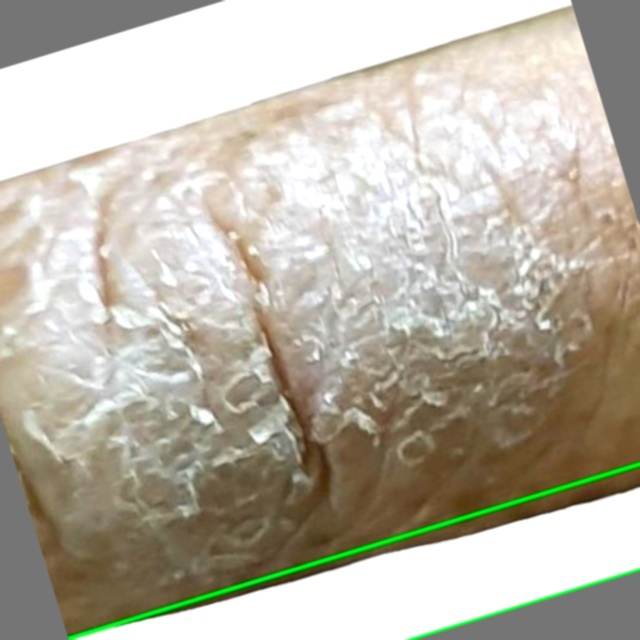Eczema: (68, 464, 639, 639)
